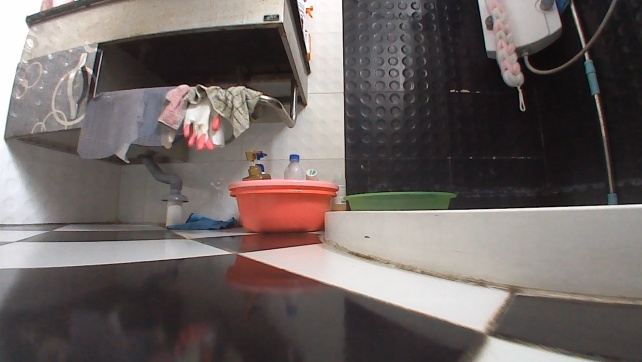wire: (521, 0, 619, 75)
